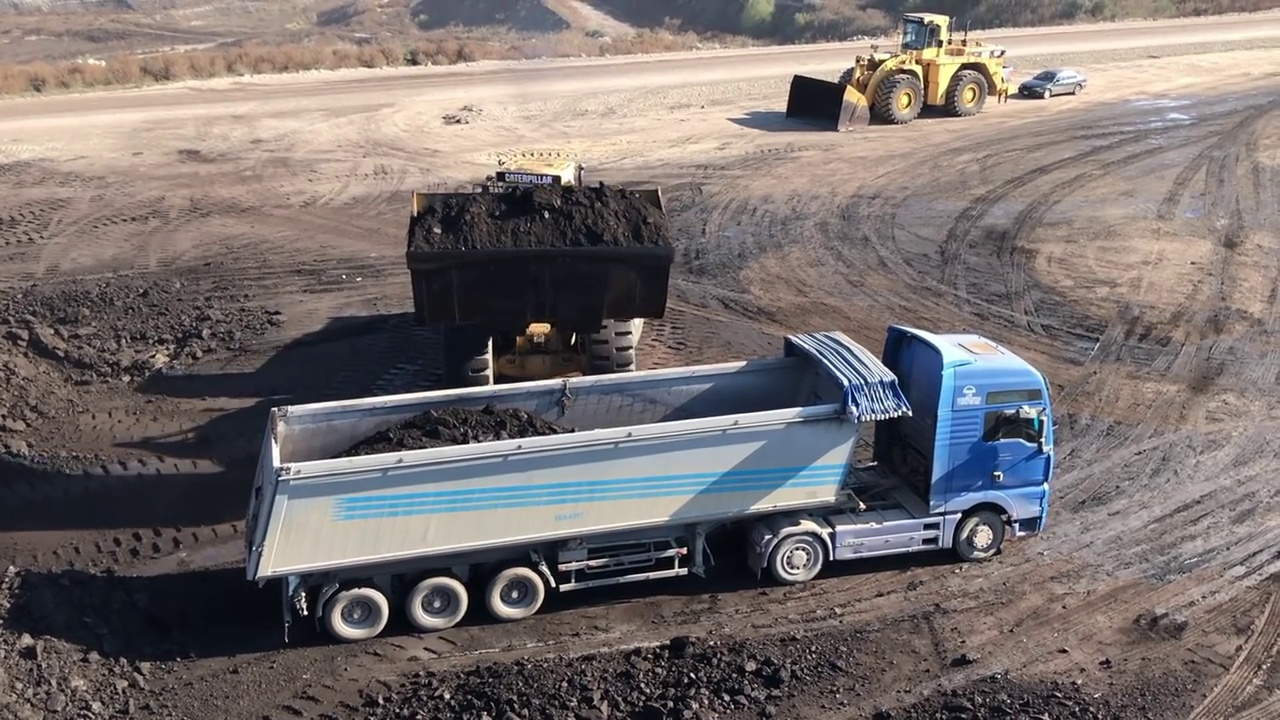car: (1021, 68, 1085, 98)
truck: (213, 325, 1049, 641)
wheel loader: (408, 160, 677, 384), (784, 13, 1014, 134)
